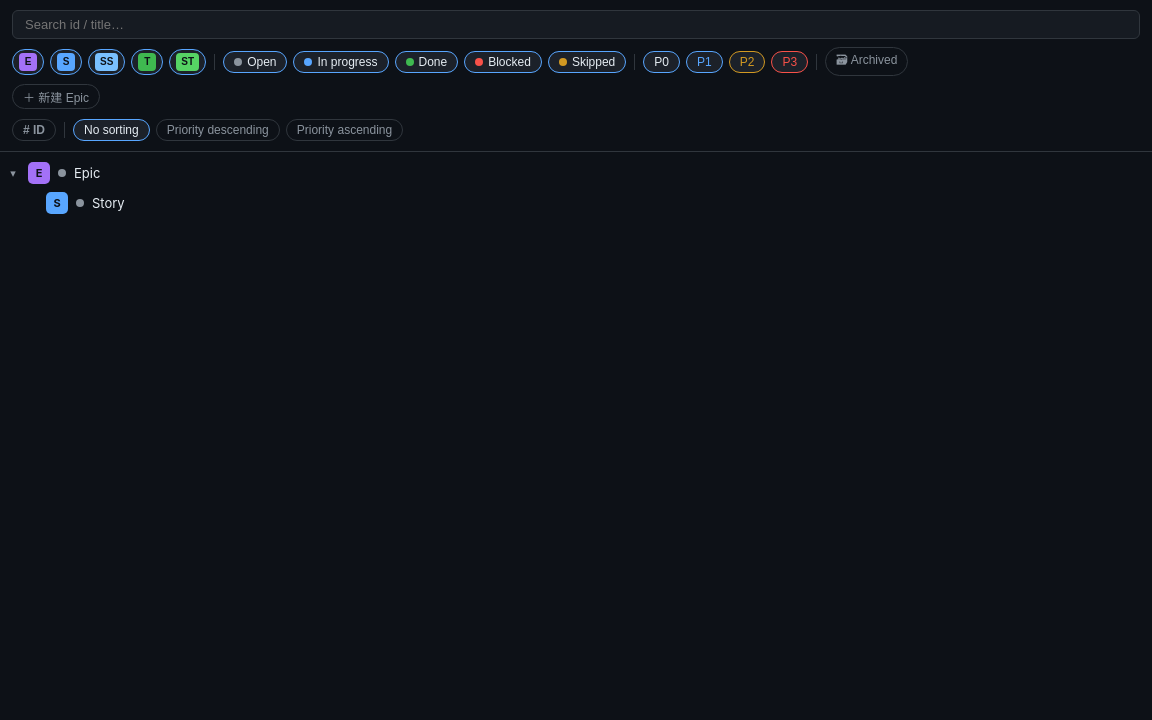
Scenario: 树面板新建表单 › 创建失败 → 就地报错不关表单
Click the button "＋ 新建 Epic" at (56, 96), box [12, 84, 100, 109]
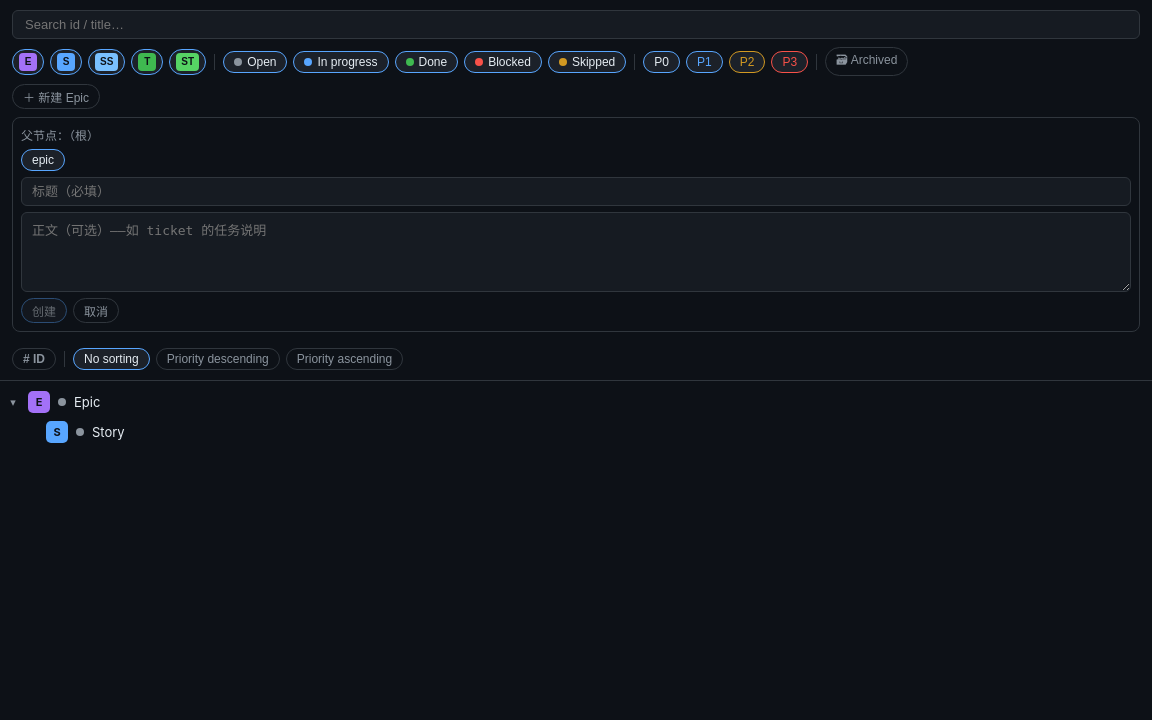
Type "x" into the field named "节点标题" at (576, 192), box [21, 177, 1131, 206]
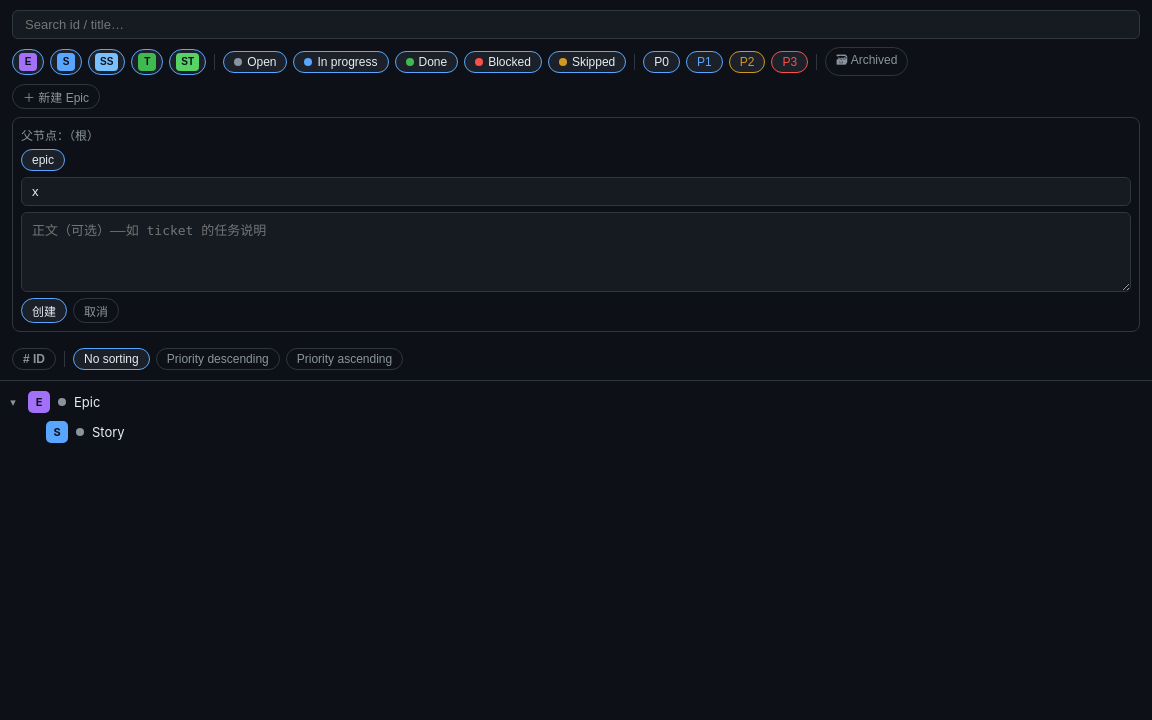
Click the button "创建" at (44, 311), box [21, 298, 67, 323]
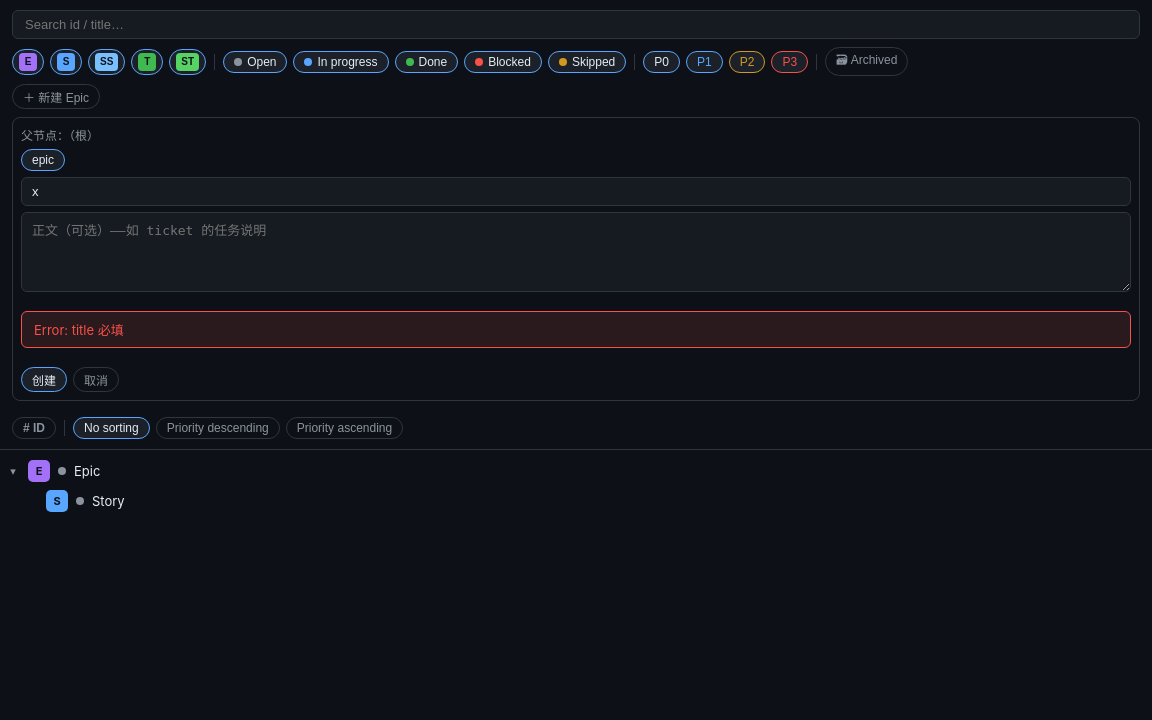
Expected: the text "Error: title 必填" is shown, [21, 311, 1131, 348]
